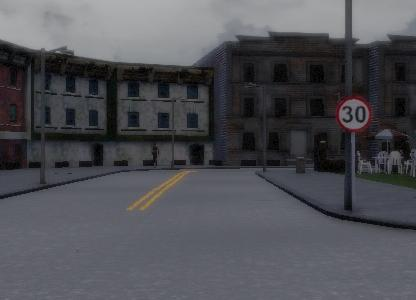Speed_30: (336, 95, 372, 139)
